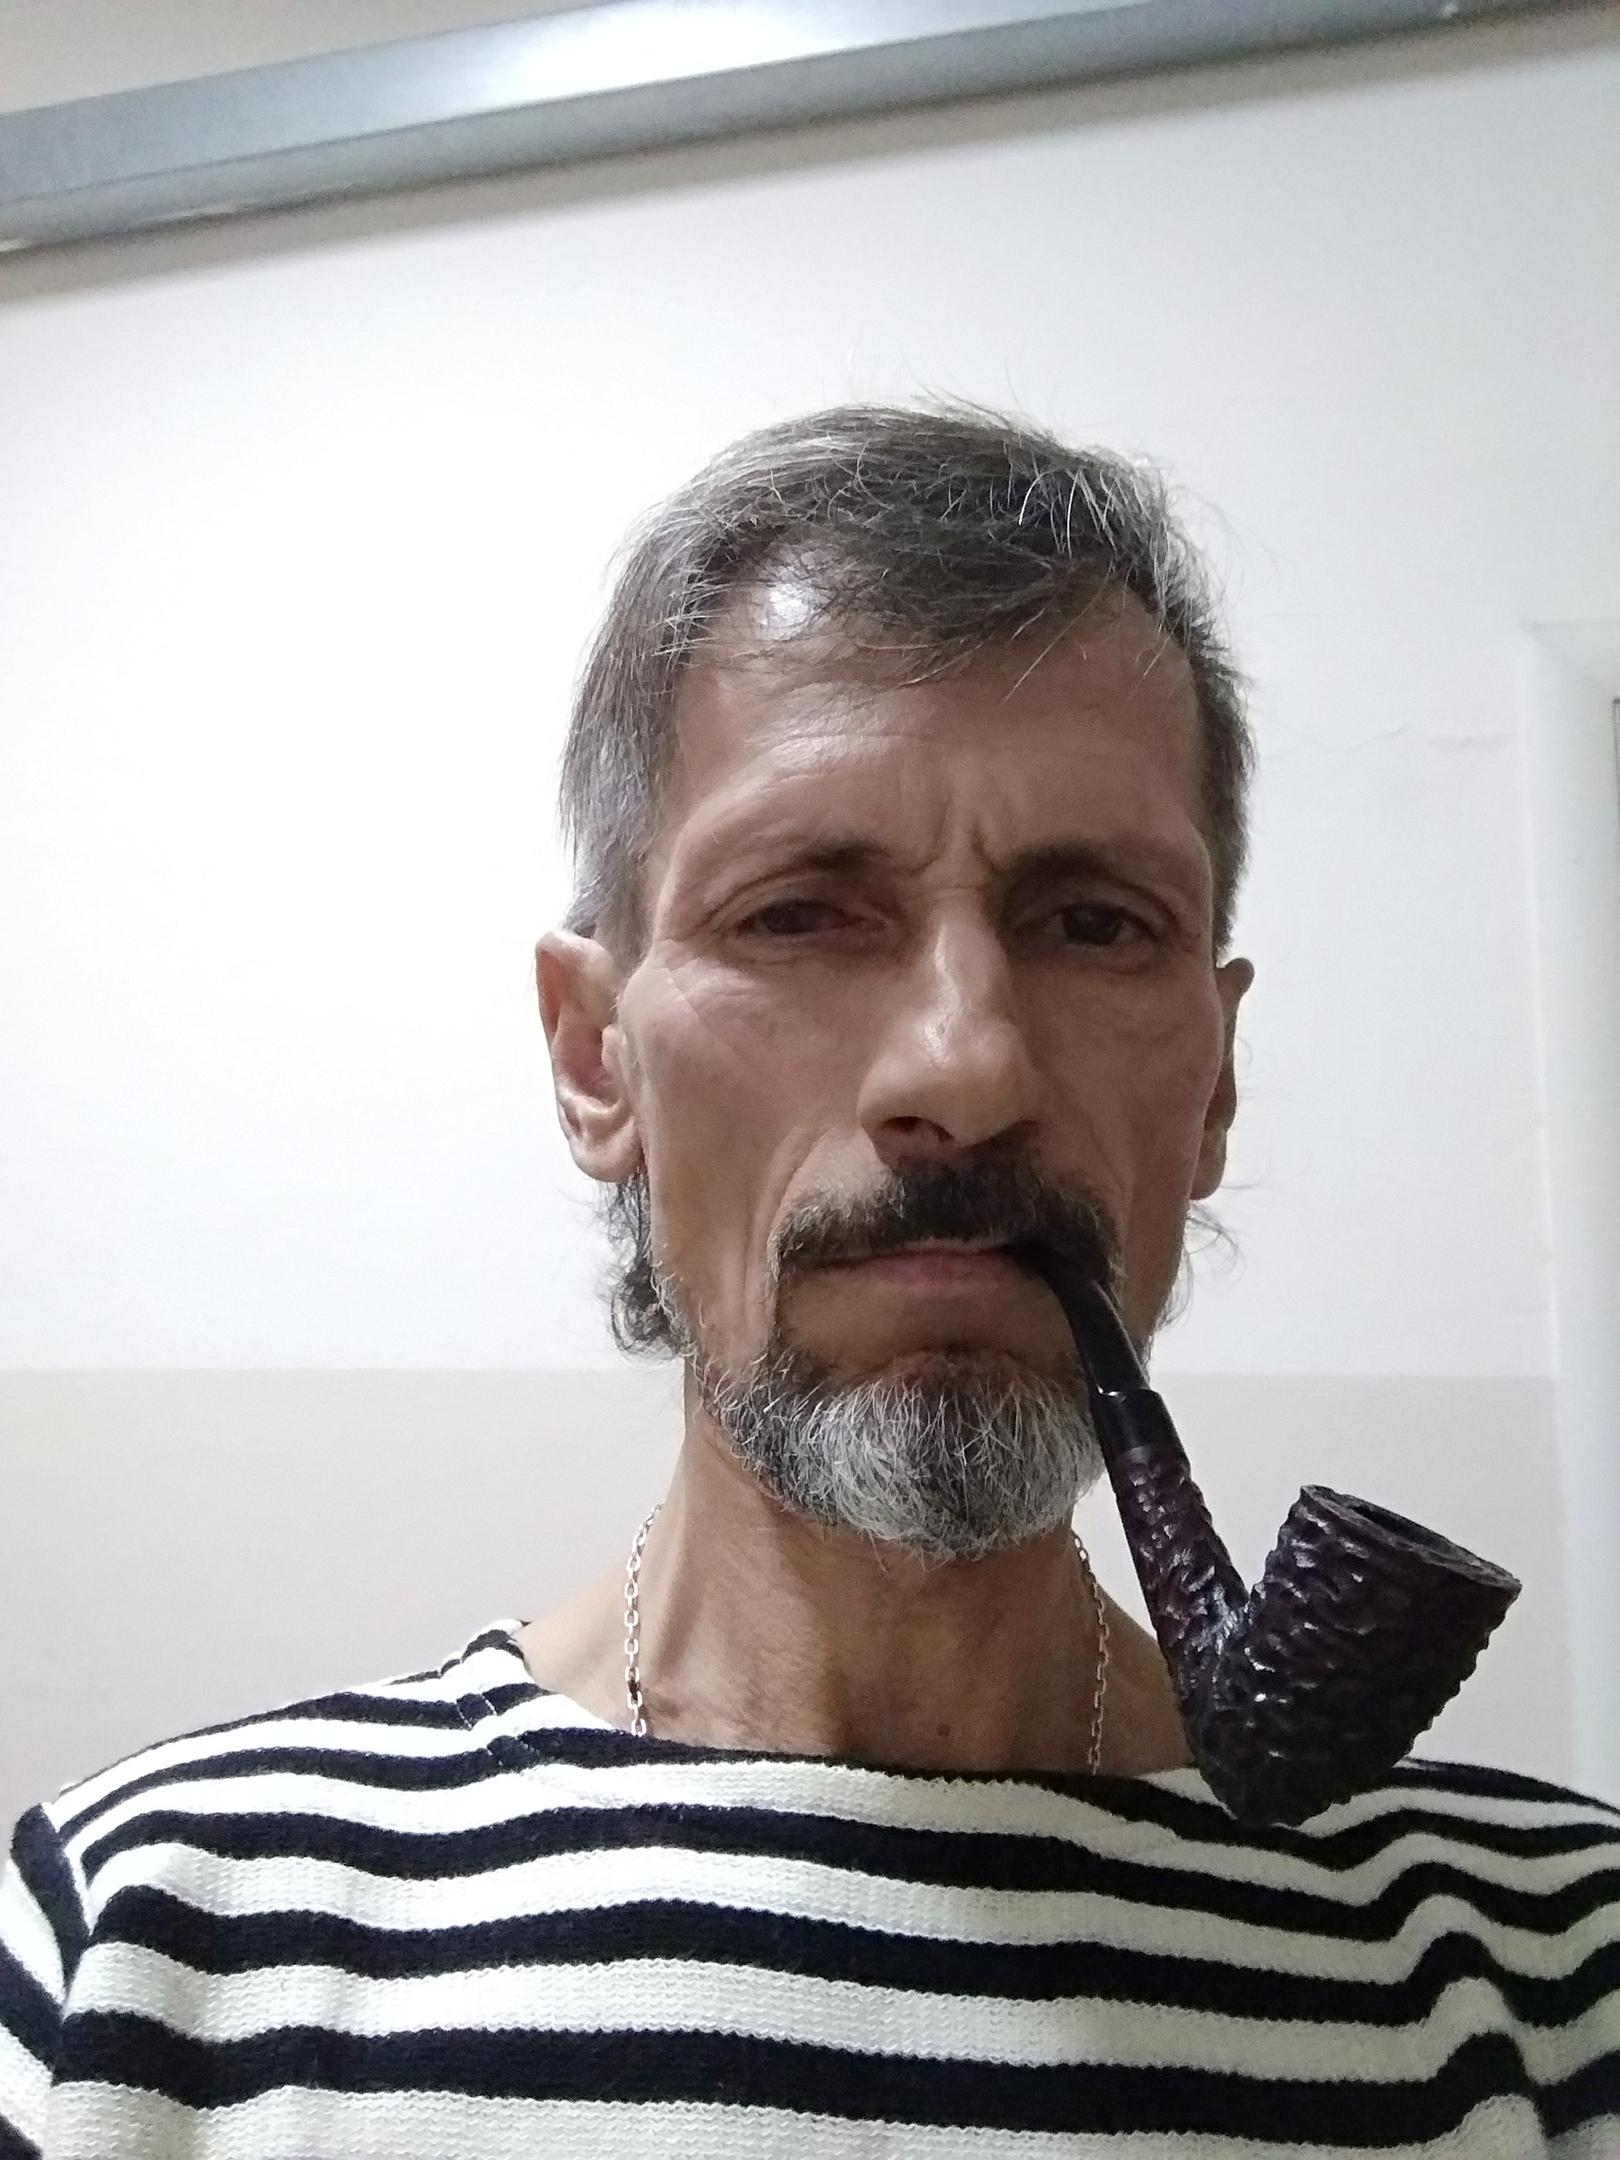trubka: (1012, 1219, 1520, 1823)
